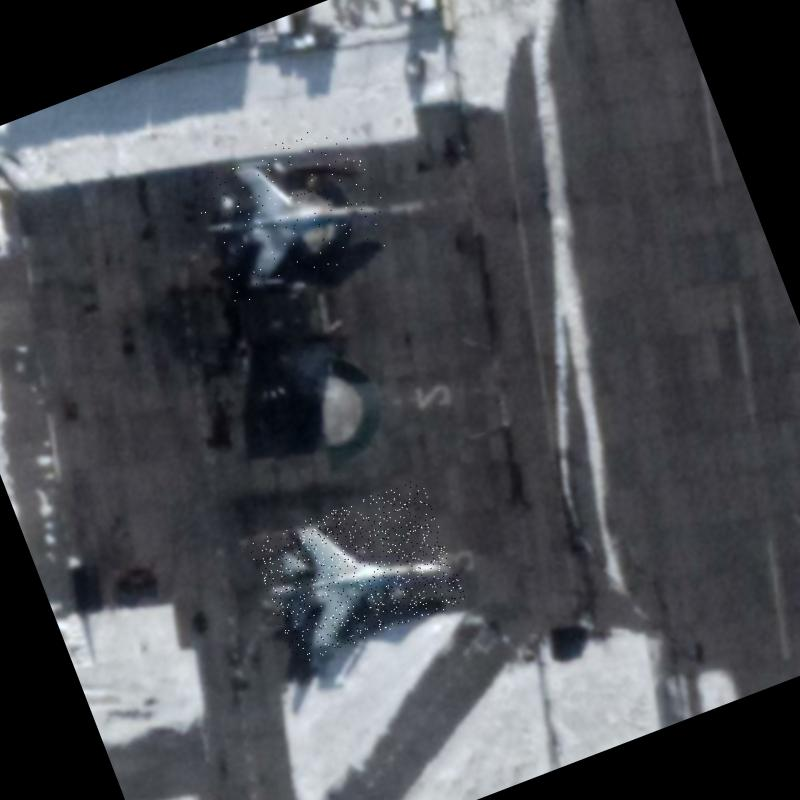A1: (246, 476, 467, 667), (186, 114, 399, 306)
